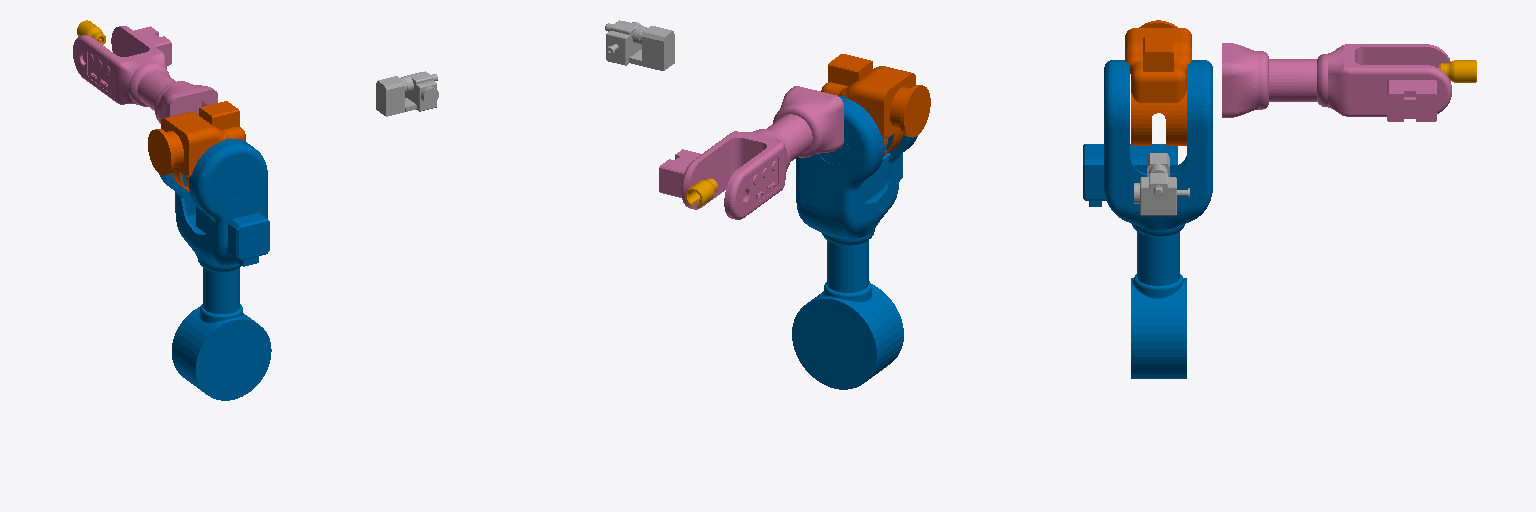
robot.urdf — niryo_ned2:
<?xml version="1.0"?>
<robot xmlns:xacro="http://www.ros.org/wiki/xacro" name="niryo_ned2">
    <!-- Links -->

    <link name="world"/>

    <link name="base_link">
        <inertial>
            <origin xyz="-0.008924 0.0001357 0.052392" rpy="0 0 0"/>
            <mass value="0.71142"/>
            <inertia ixx="0.0017" ixy="0.0" ixz="0.0" iyy="0.0017" iyz="0.0" izz="0.0032"/>
        </inertial>
        <visual>
            <origin xyz="0 0 0" rpy="0 0 0"/>
            <geometry>
                <mesh filename="assets/1- BASE - V1.obj"/>
            </geometry>
        </visual>
        <collision>
            <origin xyz="0 0 0" rpy="-1.5708 0 0"/>
            <geometry>
                <mesh filename="assets/1- BASE - V1.STL"/>
            </geometry>
        </collision>
    </link>

    <link name="led_ring_link">
    </link>

    <link name="shoulder_link">
        <inertial>
            <origin xyz="-0.031951 0.0080419 0.030675" rpy="0 0 0"/>
            <mass value="0.35056"/>
            <inertia ixx="0.00023875" ixy="2.3853E-08" ixz="2.0596E-06" iyy="0.00032638" iyz="-8.9319E-07"
                     izz="0.00030089"/>
        </inertial>
        <visual>
            <origin xyz="0 0 0" rpy="0 0 -1.5708"/>
            <geometry>
                <mesh filename="assets/2- SHOULDER - V1.obj" scale="0.001 0.001 0.001"/>
            </geometry>
        </visual>
        <collision>
            <origin xyz="0 0 0" rpy="0 0 -1.5708"/>
            <geometry>
                <mesh filename="assets/2- SHOULDER - V1.stl" scale="0.001 0.001 0.001"/>
            </geometry>
        </collision>
    </link>


    <link name="arm_link">
        <inertial>
            <origin xyz="-0.00096976 0.086432 0.0038832" rpy="0 3.14159 0"/>
            <mass value="1.0838"/>
            <inertia ixx="0.008194" ixy="0.00015602" ixz="-3.434E-06" iyy="0.0011945" iyz="-0.00031298" izz="0.007915"/>
        </inertial>
        <visual>
            <origin xyz="0 0 0" rpy="0 3.14159 0"/>
            <geometry>
                <mesh filename="assets/3- ARM - V1.obj"/>
            </geometry>
        </visual>
        <collision>
            <origin xyz="0 0 0" rpy="0 3.14159 0"/>
            <geometry>
                <mesh filename="assets/3- ARM - V1.STL"/>
            </geometry>
        </collision>
    </link>


    <link name="elbow_link">
        <inertial>
            <origin xyz="-0.019703 0.037336 -1.7431E-09" rpy="0 3.14159 0"/>
            <mass value="0.22126"/>
            <inertia ixx="0.00011754" ixy="-1.2314E-05" ixz="-6.2064E-11" iyy="0.00020851" iyz="9.2393E-11"
                     izz="0.00022753"/>
        </inertial>
        <visual>
            <origin xyz="0 0 0" rpy="0 3.14159 -1.5708"/>
            <geometry>
                <mesh filename="assets/4- ELBOW - V1.obj"/>
            </geometry>
        </visual>
        <collision>
            <origin xyz="0 0 0" rpy="0 3.14159 -1.5708"/>
            <geometry>
                <mesh filename="assets/4- ELBOW - V1.STL"/>
            </geometry>
        </collision>
    </link>


    <link name="forearm_link">
        <inertial>
            <origin xyz="-0.0049532 7.8351E-06 0.08106" rpy="0 0 0"/>
            <mass value="0.35686"/>
            <inertia ixx="0.0013664" ixy="-9.6367E-08" ixz="0.00013594" iyy="0.0014781" iyz="-1.4596E-07"
                     izz="0.00023715"/>
        </inertial>
        <visual>
            <origin xyz="0 0 0" rpy="0 0 -1.5708"/>
            <geometry>
                <mesh filename="assets/5- FOREARM - V1.obj"/>
            </geometry>
        </visual>
        <collision>
            <origin xyz="0 0 0" rpy="0 0 -1.5708"/>
            <geometry>
                <mesh filename="assets/5- FOREARM - V1.STL"/>
            </geometry>
        </collision>
    </link>

    <link name="wrist_link">
        <inertial>
            <origin xyz="-0.019666 0.037312 0.0" rpy="0 0 0"/>
            <mass value="0.22126"/>
            <inertia ixx="0.0015" ixy="0.0" ixz="0.0" iyy="0.0015" iyz="0.0" izz="0.0015"/>
        </inertial>
        <visual>
            <origin xyz="0 0 0"
                    rpy="0 0 -1.5708"/>
            <geometry>
                <mesh filename="assets/6- WRIST - V1.obj"/>
            </geometry>
        </visual>
        <collision>
            <origin xyz="0 0 0"
                    rpy="0 0 -1.5708"/>
            <geometry>
                <mesh filename="assets/6- WRIST - V1.STL"/>
            </geometry>
        </collision>
    </link>


    <link name="hand_link">
        <inertial>
            <origin xyz="0 0 0.009" rpy="0 0 0"/>
            <mass value="0.0070027"/>
            <inertia ixx="0.0015" ixy="0.0" ixz="0.0" iyy="0.0015" iyz="0.0" izz="0.0015"/>
        </inertial>
        <visual>
            <origin xyz="0 0 0" rpy="0 0 -1.5708"/>
            <geometry>
                <mesh filename="assets/7- HAND - V1.obj"/>
            </geometry>
        </visual>
        <collision>
            <origin xyz="0 0 0" rpy="0 0 -1.5708"/>
            <geometry>
                <mesh filename="assets/7- HAND - V1.STL"/>
            </geometry>
        </collision>
    </link>


    <link name="tool_link">
    </link>


    <!-- Joints -->

    <joint name="joint_world" type="fixed">
        <parent link="world"/>
        <child link="base_link"/>
        <origin xyz="0 0 0" rpy="0 0 0"/>
    </joint>

    <joint name="joint_1" type="revolute">
        <origin xyz="0 0 0.1013" rpy="0 0 0"/>
        <parent link="base_link"/>
        <child link="shoulder_link"/>
        <axis xyz="0 0 1"/>
        <limit effort="10.0" velocity="10.0" lower="-3.05433"
               upper="3.05433"/>
    </joint>

    <joint name="joint_2" type="revolute">
        <origin xyz="0 0 0.065" rpy="1.5708 0 0"/>
        <parent link="shoulder_link"/>
        <child link="arm_link"/>
        <axis xyz="0 0 1"/>
        <limit effort="10.0" velocity="8.0" lower="-1.91986"
               upper="0.640187"/>

    </joint>

    <joint name="joint_3" type="revolute">
        <origin xyz="0.012 0.221 0" rpy="0 0 1.5708"/>
        <parent link="arm_link"/>
        <child link="elbow_link"/>
        <axis xyz="0 0 1"/>
        <limit effort="7.0" velocity="8.0" lower="-2.09" upper="2.09"/>

    </joint>

    <joint name="joint_4" type="revolute">
        <origin xyz="0.0325 -0.065 0" rpy="1.5708 0 0"/>
        <parent link="elbow_link"/>
        <child link="forearm_link"/>
        <axis xyz="0 0 1"/>
        <limit effort="7.0" velocity="2.0" lower="-1.74" upper="1.74"/>
    </joint>

    <joint name="joint_5" type="revolute">
        <origin xyz="0 0 0.17" rpy="-1.5708 0 0"/>
        <parent link="forearm_link"/>
        <child link="wrist_link"/>
        <axis xyz="0 0 1"/>
        <limit effort="6.0" velocity="2.0" lower="-2.79" upper="2.79"/>

    </joint>

    <joint name="joint_6" type="revolute">
        <origin xyz="0.00925 -0.0197 0" rpy="1.5708 0 0"/>
        <parent link="wrist_link"/>
        <child link="hand_link"/>
        <axis xyz="0 0 1"/>
        <limit effort="5.0" velocity="2.0" lower="-3.14" upper="3.14"/>
    </joint>

    <joint name="hand_tool_joint" type="fixed">
        <parent link="hand_link"/>
        <child link="tool_link"/>
        <origin xyz="0 0 0.03" rpy="3.14159 -1.5708 0"/>
    </joint>

    <joint name="joint_led_ring" type="fixed">
        <parent link="world"/>
        <child link="led_ring_link"/>
        <origin xyz="0 0 0.0923" rpy="0 0 0"/>
    </joint>

</robot>

--- Render facts (derived) ---
Views: 3 orthographic renders of the robot side by side, from view 1: azimuth 30°, elevation 25°; view 2: azimuth 150°, elevation 25°; view 3: azimuth 270°, elevation 25°.
Robot: niryo_ned2 — 10 links, 9 joints (6 revolute, 3 fixed); root link world; default pose: all joints at 0.
Visible links, largest first — view 1: arm_link, forearm_link, elbow_link, wrist_link; view 2: arm_link, forearm_link, elbow_link, wrist_link, hand_link; view 3: arm_link, forearm_link, elbow_link, wrist_link, hand_link.
Link boxes in pixels (bbox=[...]): arm_link: bbox=[159, 138, 271, 400]; forearm_link: bbox=[73, 26, 217, 123]; elbow_link: bbox=[148, 101, 245, 191]; wrist_link: bbox=[376, 71, 438, 116]; arm_link: bbox=[792, 96, 917, 389]; forearm_link: bbox=[659, 86, 843, 219]; elbow_link: bbox=[821, 54, 930, 155]; wrist_link: bbox=[605, 20, 674, 70]; hand_link: bbox=[685, 178, 717, 207]; arm_link: bbox=[1083, 60, 1212, 378]; forearm_link: bbox=[1222, 43, 1451, 121]; elbow_link: bbox=[1125, 20, 1191, 145]; wrist_link: bbox=[1134, 153, 1189, 215]; hand_link: bbox=[1439, 60, 1476, 82].
Bounding box of the posed robot: 344 × 365 × 455 m (x, y, z).
Meshes: 7 distinct files referenced, 6 mesh visuals loaded (6 OBJ); not drawn: 1 (reference not matched to a file when rendering).
